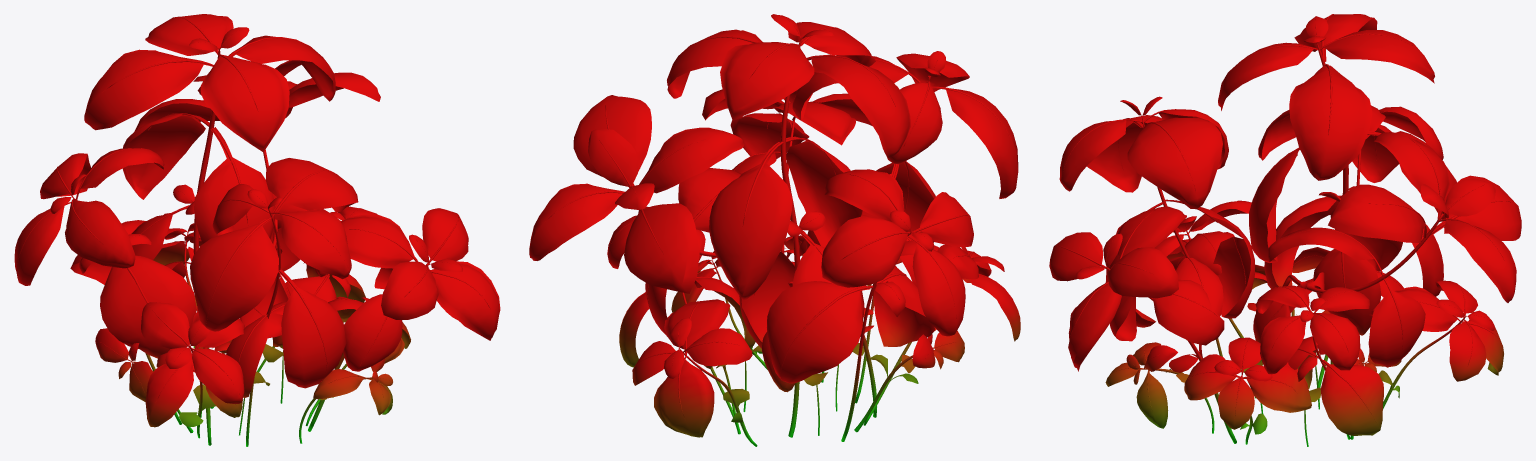
The model's file is Basil_LOD0_Var4_vgpochzia.fbx.
3 views of the same model, side by side, from view 1: azimuth 30°, elevation 25°; view 2: azimuth 150°, elevation 25°; view 3: azimuth 270°, elevation 25° (orthographic). The views are drawn at different scales.
Visible parts, largest first — view 1: _cbss_Var4_LOD0; view 2: _cbss_Var4_LOD0; view 3: _cbss_Var4_LOD0.
Part boxes in pixels (x1,y1,x2,y2): _cbss_Var4_LOD0: [14, 14, 500, 446]; _cbss_Var4_LOD0: [529, 14, 1020, 446]; _cbss_Var4_LOD0: [1049, 14, 1521, 446].
Size of the model in its own units: 35.31 by 36.53 by 39.83.
